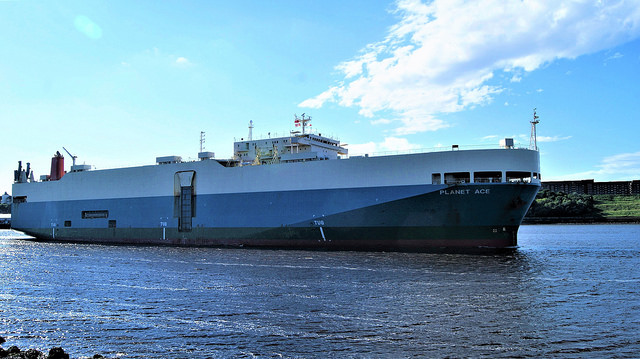PCC: (11, 127, 544, 261)
